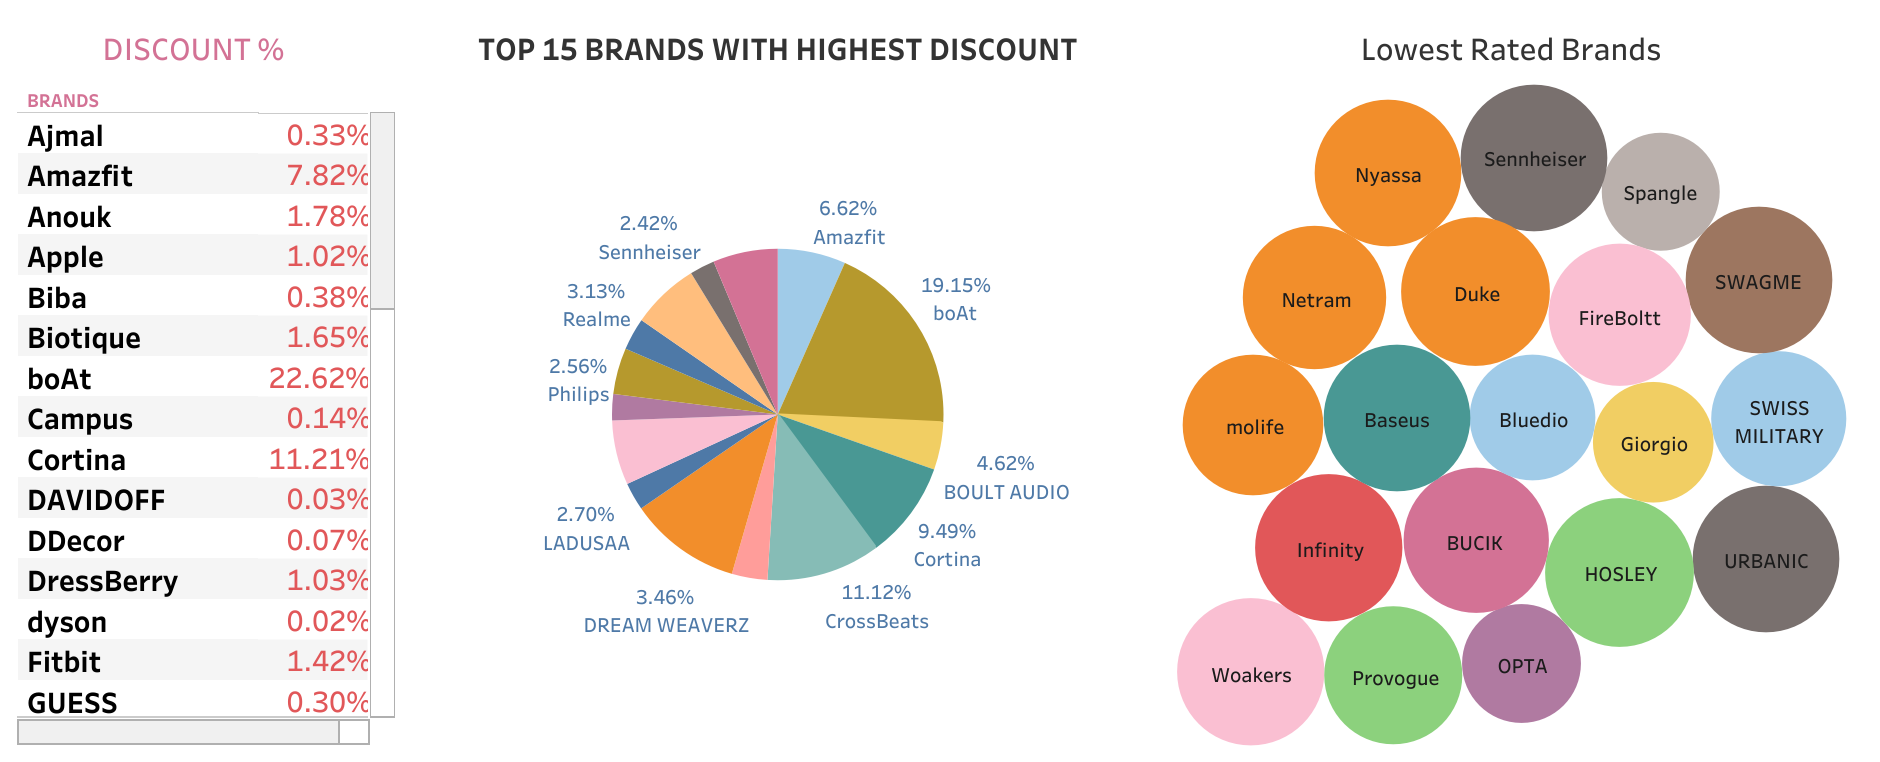

What the dashboard file says about the page in this screenshot:
{"tool":"tableau","page":{"name":"Dashboard 2","canvas":[1000,1000],"units":"permille","ordinal":1},"visuals":[{"type":"worksheet","title":"Sheet 1","mark":"Automatic","rows":["INFLUENCER","Brands"],"box":[5,9.8,535.9,471.9]},{"type":"worksheet","title":"Sheet 2","mark":"Square","rows":["INFLUENCER"],"box":[540.9,9.8,454.1,471.9]},{"type":"worksheet","title":"Sheet 3","mark":"Circle","box":[5,481.7,990,508.6]}]}

Visuals, with their boxes on the dashboard's canvas, which has no fixed pixel size, in thousandths of its width and height (x1, y1, x2, y2). These are canvas units, not pixel positions in the 1880x762 screenshot, which may show the page scaled, cropped or inside an application window:
"Sheet 1" worksheet: [left=5, top=10, right=541, bottom=482]
"Sheet 2" worksheet (Square marks): [left=541, top=10, right=995, bottom=482]
"Sheet 3" worksheet (Circle marks): [left=5, top=482, right=995, bottom=990]
